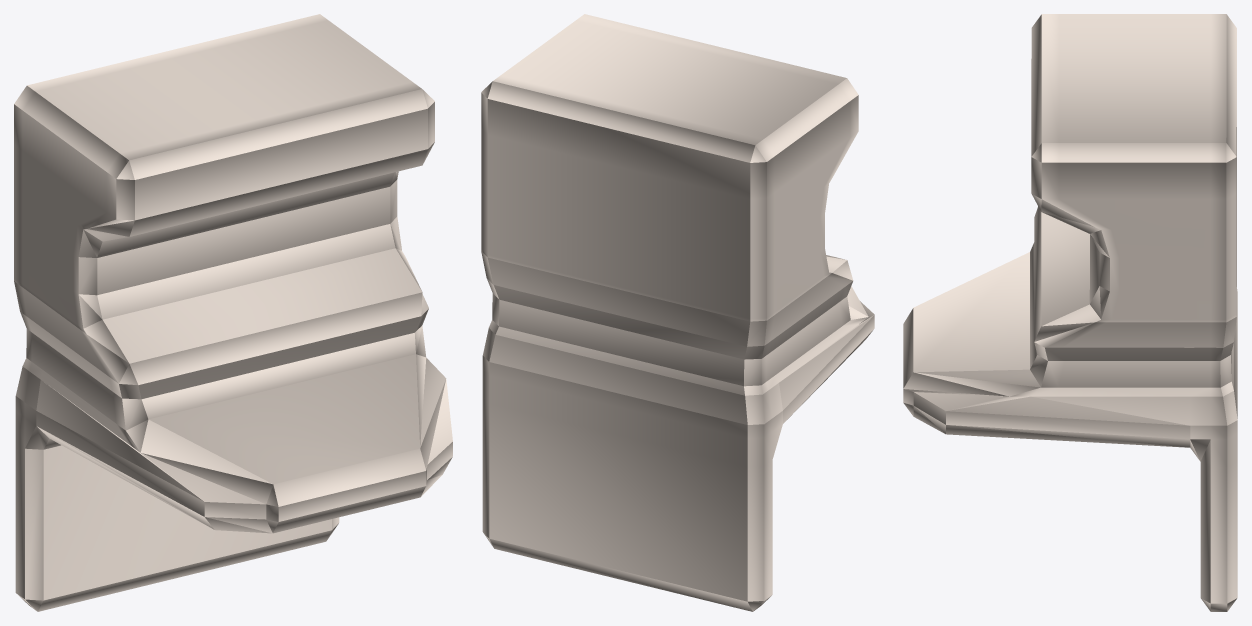
Rendered from CabinetmeshDeskDoor_318_2_GeomSubset_0.obj.
3 renders of one model, left to right at view 1: azimuth 30°, elevation 25°; view 2: azimuth 150°, elevation 25°; view 3: azimuth 270°, elevation 25°, orthographic. The views are drawn at different scales.
Parts seen in each view (by area): view 1: CabinetmeshDeskDoor_318_2_GeomSubset_0; view 2: CabinetmeshDeskDoor_318_2_GeomSubset_0; view 3: CabinetmeshDeskDoor_318_2_GeomSubset_0.
Boxes of the visible parts, left/top/right/bottom form: CabinetmeshDeskDoor_318_2_GeomSubset_0: left=14, top=14, right=452, bottom=611; CabinetmeshDeskDoor_318_2_GeomSubset_0: left=481, top=14, right=874, bottom=611; CabinetmeshDeskDoor_318_2_GeomSubset_0: left=903, top=14, right=1237, bottom=611.
Size of the model in its own units: 0.034 by 0.0531 by 0.0342.
